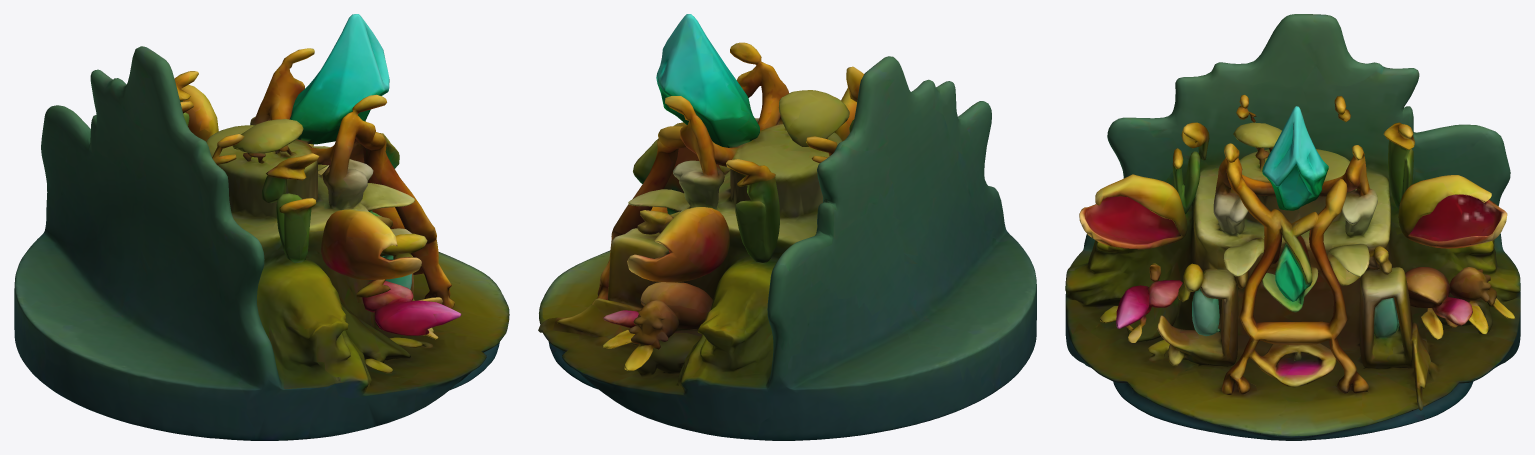
Rendered from grassland-base-2.glb.
3 views of the same model, side by side, from view 1: azimuth 30°, elevation 25°; view 2: azimuth 150°, elevation 25°; view 3: azimuth 270°, elevation 25° (orthographic). The views are drawn at different scales.
Visible parts, largest first — view 1: tripo_node_cfa8d1d7-141b-450f-ae63-4e0ca82e3176; view 2: tripo_node_cfa8d1d7-141b-450f-ae63-4e0ca82e3176; view 3: tripo_node_cfa8d1d7-141b-450f-ae63-4e0ca82e3176.
Boxes of the visible parts, x1,y1,x2,y2 form: tripo_node_cfa8d1d7-141b-450f-ae63-4e0ca82e3176: [14, 14, 509, 440]; tripo_node_cfa8d1d7-141b-450f-ae63-4e0ca82e3176: [538, 14, 1036, 440]; tripo_node_cfa8d1d7-141b-450f-ae63-4e0ca82e3176: [1065, 14, 1520, 440].
Size of the model in its own units: 1 by 0.6748 by 0.9667.
1 material, 1 textured.
